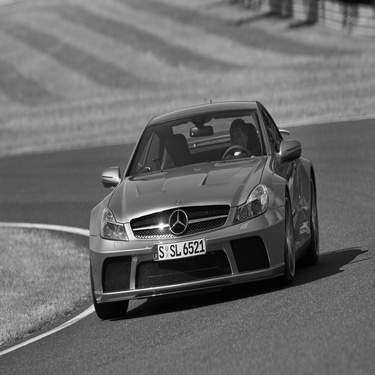car: (67, 89, 324, 320)
